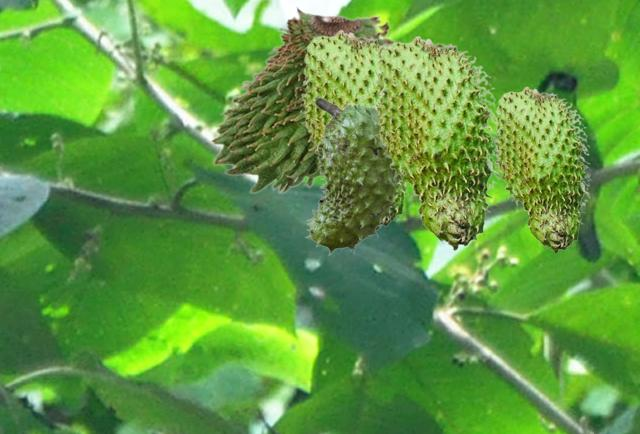guyabano: (209, 5, 396, 193), (373, 35, 501, 250), (299, 29, 409, 230), (493, 86, 591, 253), (304, 97, 402, 255)
